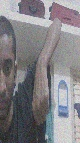hand: (31, 62, 52, 126)
